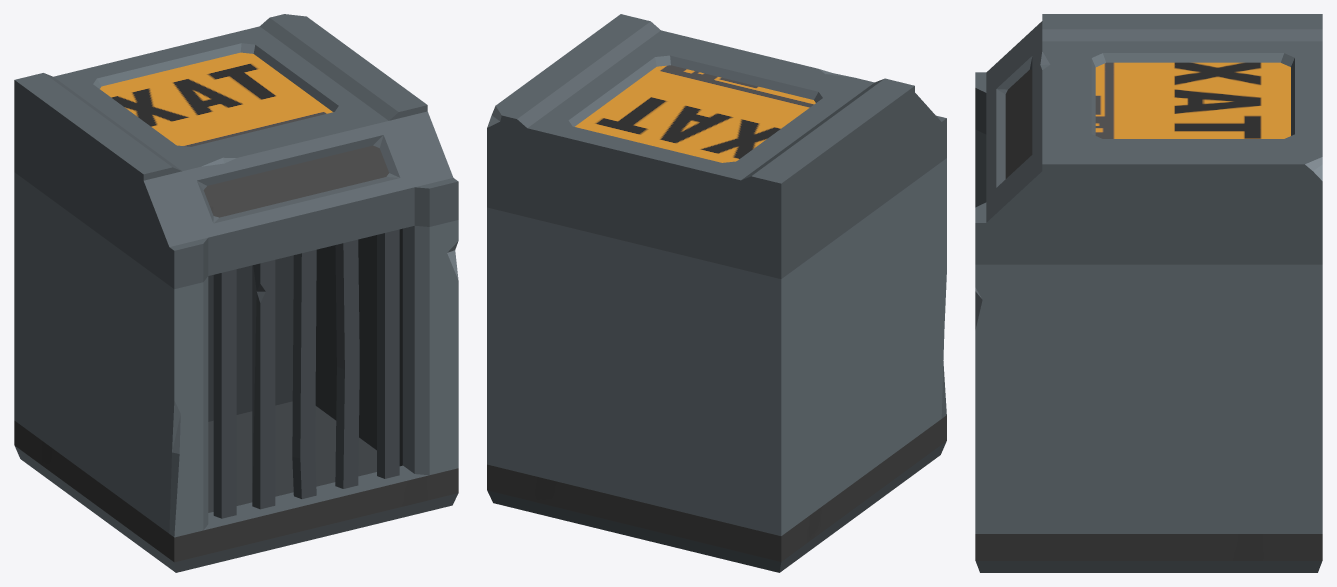
File: SM_Prop_Cage_02.fbx
3 renders of one model, left to right at view 1: azimuth 30°, elevation 25°; view 2: azimuth 150°, elevation 25°; view 3: azimuth 270°, elevation 25°, orthographic. The views are drawn at different scales.
Visible parts, largest first — view 1: SM_Props_Cage_02; view 2: SM_Props_Cage_02; view 3: SM_Props_Cage_02.
Boxes of the visible parts, left/top/right/bottom form: SM_Props_Cage_02: left=14, top=14, right=458, bottom=572; SM_Props_Cage_02: left=487, top=14, right=946, bottom=572; SM_Props_Cage_02: left=975, top=14, right=1322, bottom=572.
Bounding box in the file's own units: 68.85 × 87.64 × 67.13.
